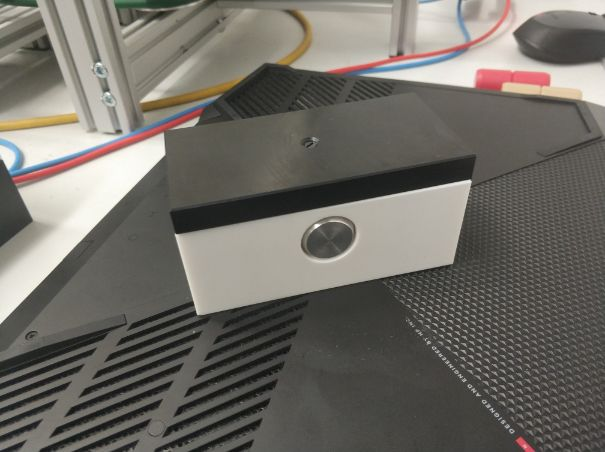black+white+silver: (158, 89, 481, 318)
